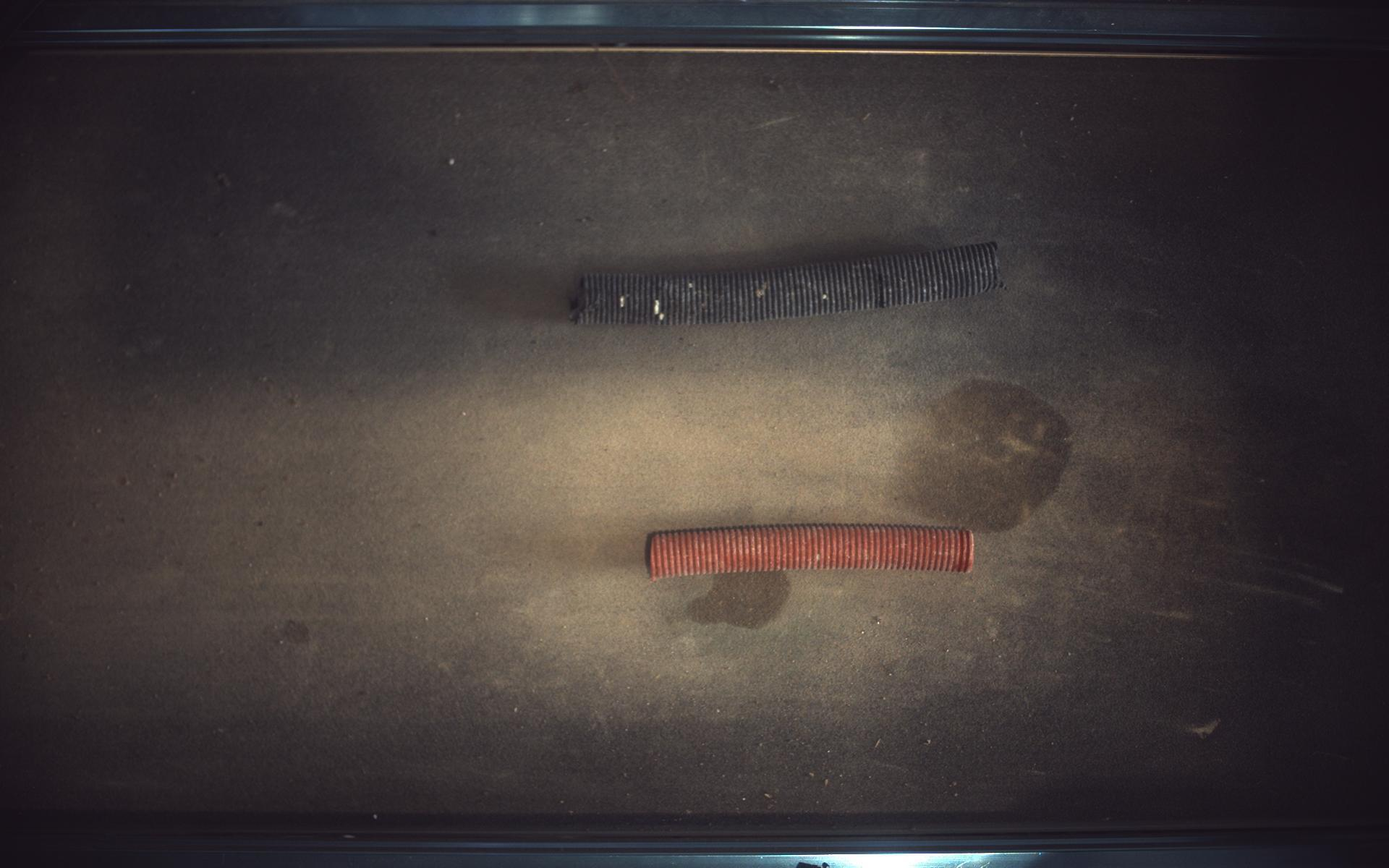pipes: (572, 242, 1004, 326), (647, 525, 977, 581)
